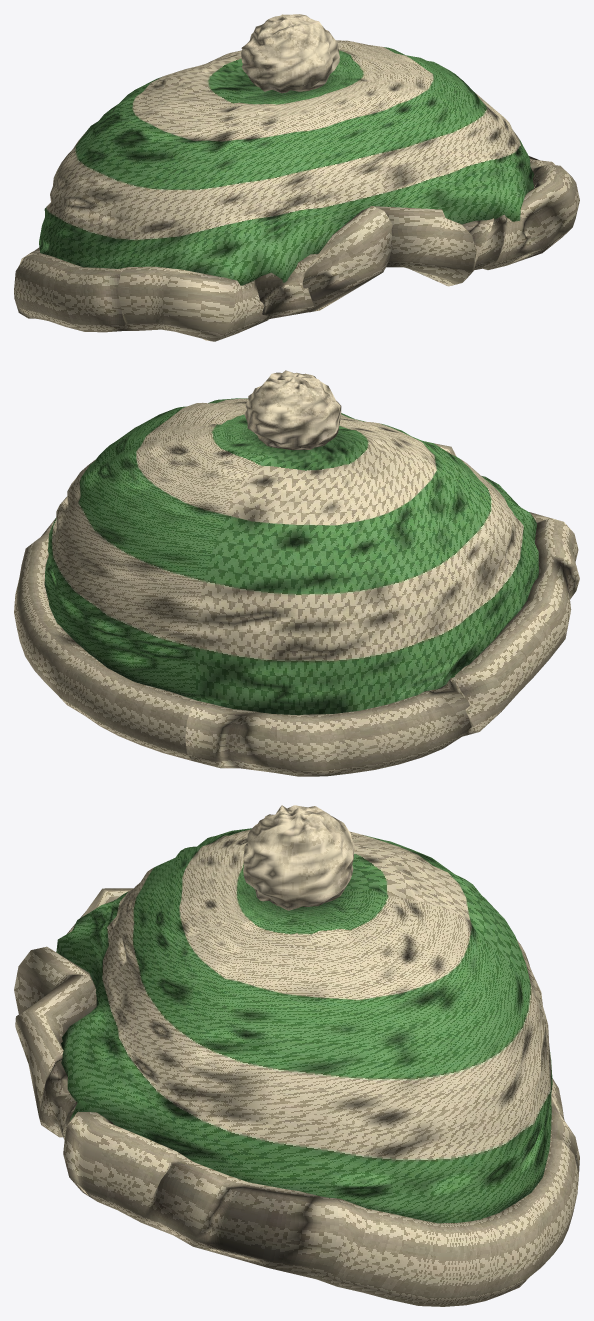
File: beanie.glb
The picture shows the model from 3 angles, top to bottom: view 1: azimuth 30°, elevation 25°; view 2: azimuth 150°, elevation 25°; view 3: azimuth 270°, elevation 25°; orthographic projection. The views are drawn at different scales.
Visible parts, largest first — view 1: beanie_cap, beanie_rib, beanie_pom; view 2: beanie_cap, beanie_rib, beanie_pom; view 3: beanie_cap, beanie_rib, beanie_pom.
Boxes of the visible parts, box(x1,y1,x2,y2) form: beanie_cap: box(39, 40, 534, 285); beanie_rib: box(14, 156, 579, 341); beanie_pom: box(241, 14, 339, 93); beanie_cap: box(44, 398, 538, 715); beanie_rib: box(14, 443, 579, 776); beanie_pom: box(244, 370, 341, 450); beanie_cap: box(56, 828, 552, 1223); beanie_rib: box(14, 888, 579, 1306); beanie_pom: box(243, 805, 354, 910).
Bounding box in the file's own units: 33.08 × 19.88 × 25.35.
Materials: 1 (1 with a texture image).
